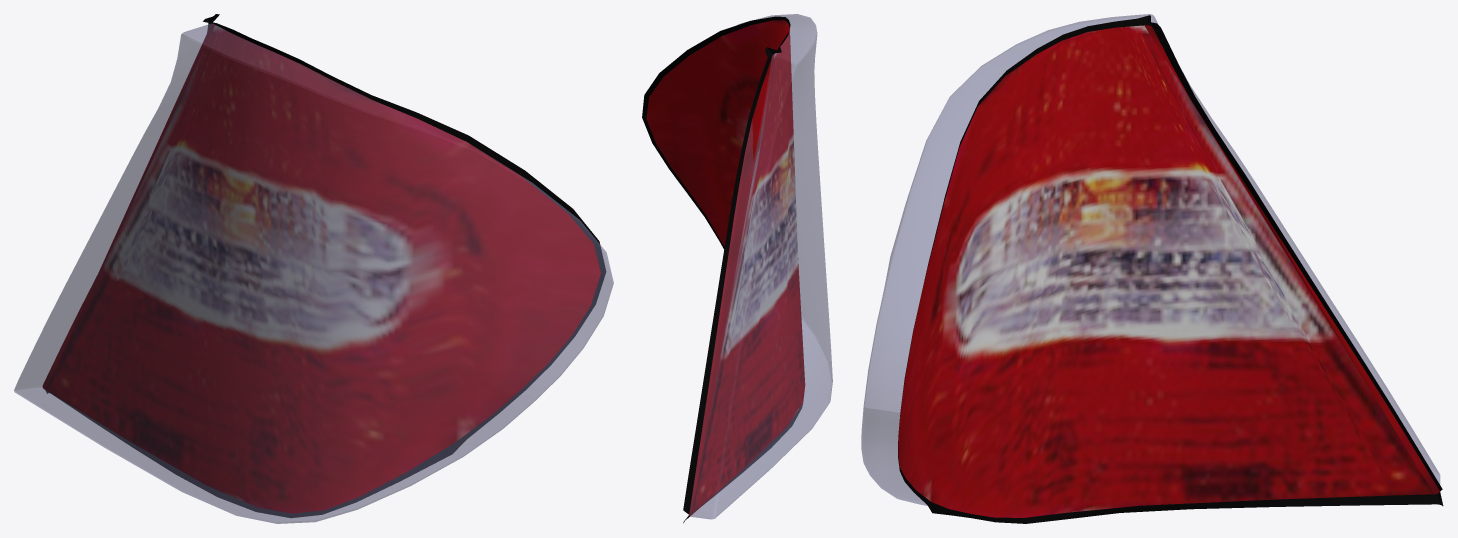
The picture shows the model from 3 angles, left to right: view 1: azimuth 30°, elevation 25°; view 2: azimuth 150°, elevation 25°; view 3: azimuth 270°, elevation 25°; orthographic projection. The views are drawn at different scales.
Parts seen in each view (by area): view 1: Y174_541C_R_Y174_541C_R_2_DTaSI, Y174_541C_R_Y174_541C_R_1_N, Y174_541C_R_3_D_Y174_541C_R; view 2: Y174_541C_R_Y174_541C_R_1_N, Y174_541C_R_Y174_541C_R_2_DTaSI, Y174_541C_R_3_D_Y174_541C_R; view 3: Y174_541C_R_Y174_541C_R_1_N, Y174_541C_R_Y174_541C_R_2_DTaSI, Y174_541C_R_3_D_Y174_541C_R.
Boxes of the visible parts, box(x1,y1,x2,y2) form: Y174_541C_R_Y174_541C_R_2_DTaSI: box(14, 23, 613, 523); Y174_541C_R_Y174_541C_R_1_N: box(42, 23, 600, 513); Y174_541C_R_3_D_Y174_541C_R: box(45, 14, 605, 517); Y174_541C_R_Y174_541C_R_1_N: box(646, 20, 805, 516); Y174_541C_R_Y174_541C_R_2_DTaSI: box(689, 14, 832, 519); Y174_541C_R_3_D_Y174_541C_R: box(642, 16, 802, 523); Y174_541C_R_Y174_541C_R_1_N: box(898, 25, 1439, 517); Y174_541C_R_Y174_541C_R_2_DTaSI: box(861, 14, 1440, 505); Y174_541C_R_3_D_Y174_541C_R: box(898, 15, 1443, 523).
Bounding box in the file's own units: 29.15 × 38.54 × 40.41.
